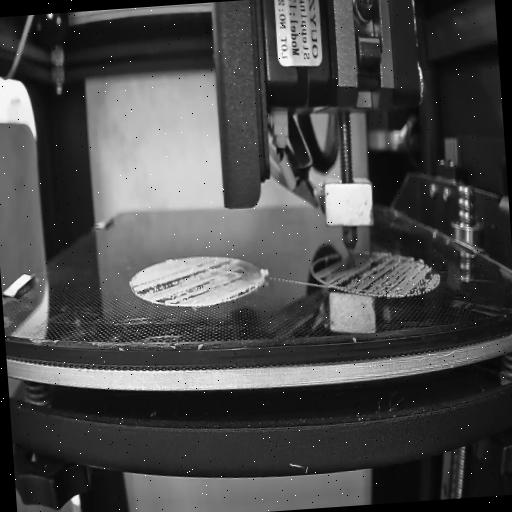under_extrusion: (129, 259, 257, 308), (317, 250, 443, 298)
